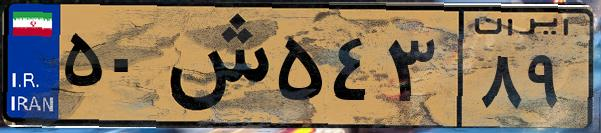0: (110, 28, 158, 98)
3: (385, 28, 445, 110)
4: (330, 28, 385, 110)
5: (270, 28, 330, 110), (57, 26, 110, 100)
8: (475, 38, 525, 113)
9: (525, 38, 570, 115)
ش: (158, 12, 270, 120)
